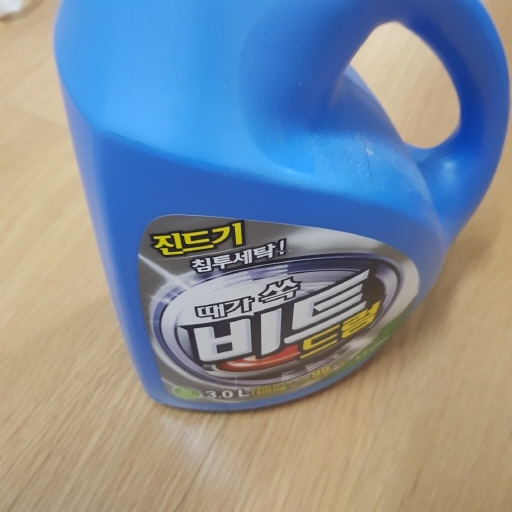Plastic_1: (53, 1, 508, 412)
